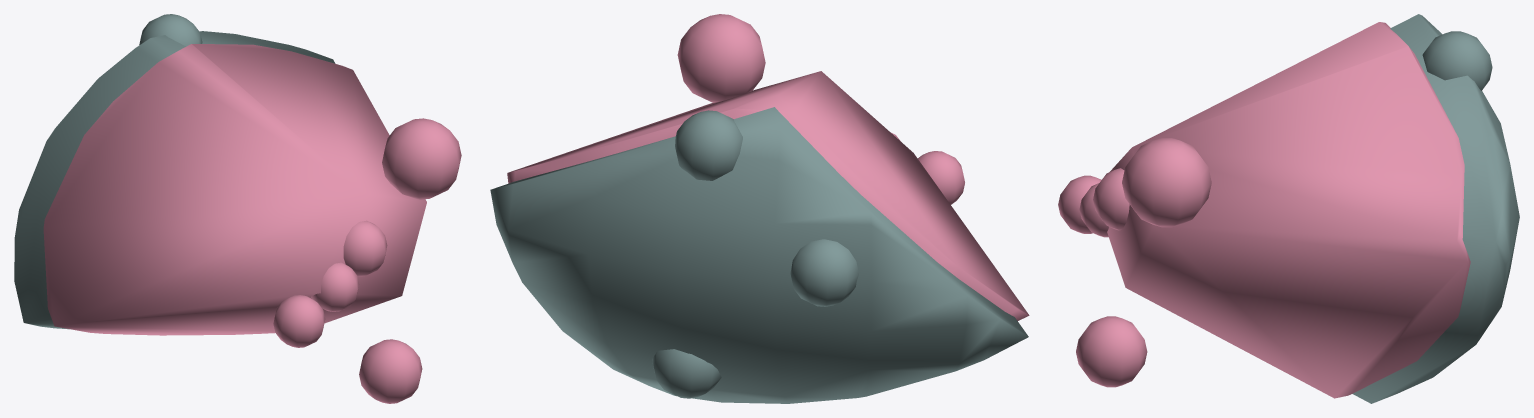
Rendered from chunk30.glb.
The picture shows the model from 3 angles, left to right: view 1: azimuth 30°, elevation 25°; view 2: azimuth 150°, elevation 25°; view 3: azimuth 270°, elevation 25°; orthographic projection. The views are drawn at different scales.
Visible parts, largest first — view 1: flesh, skin; view 2: skin, flesh; view 3: flesh, skin.
Boxes of the visible parts, x1=… form: flesh: x1=43, y1=44, x2=461, y2=403; skin: x1=14, y1=14, x2=335, y2=329; skin: x1=490, y1=107, x2=1028, y2=403; flesh: x1=507, y1=14, x2=1029, y2=320; flesh: x1=1058, y1=22, x2=1470, y2=398; skin: x1=1352, y1=14, x2=1519, y2=403.
Bounding box in the file's own units: 1.02 × 0.7313 × 0.9213.
